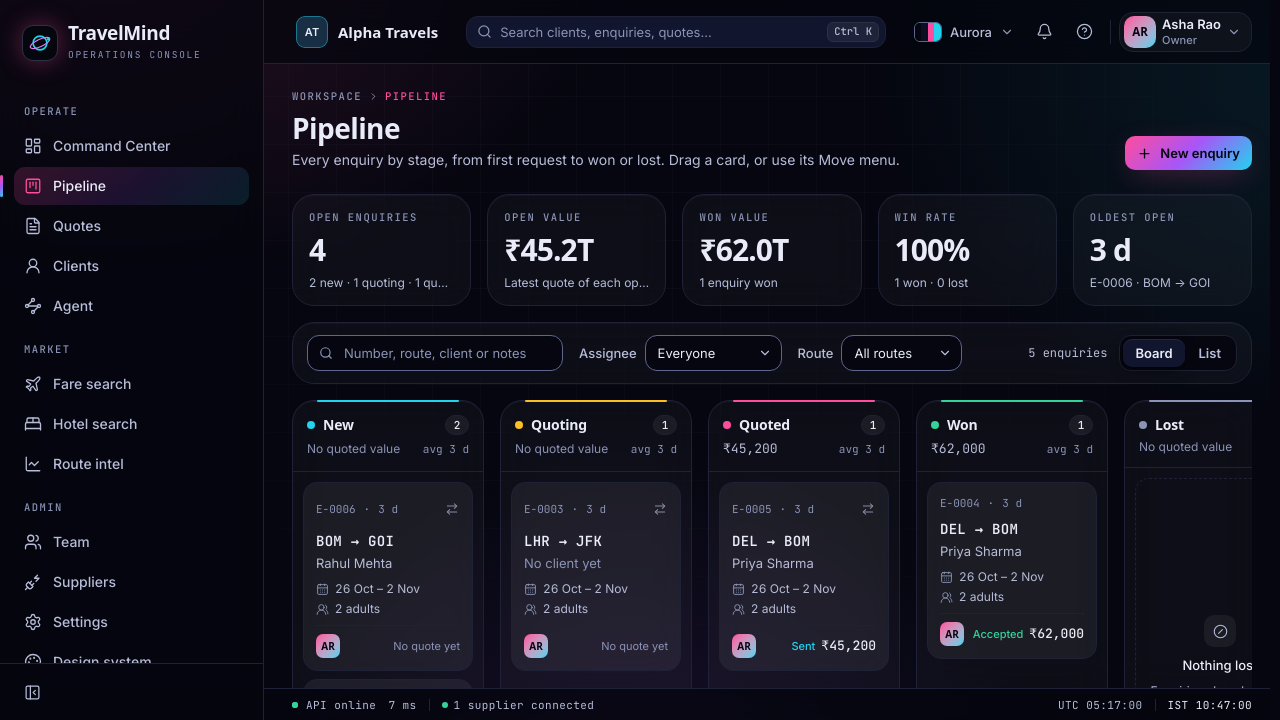
Test: a refused move shows the server's message and puts the card back
The width and height of the screenshot is (1280, 720).
Step 1. Click the button named "Move E-0006" → (452, 509), box x1=438 y1=491 x2=466 y2=527
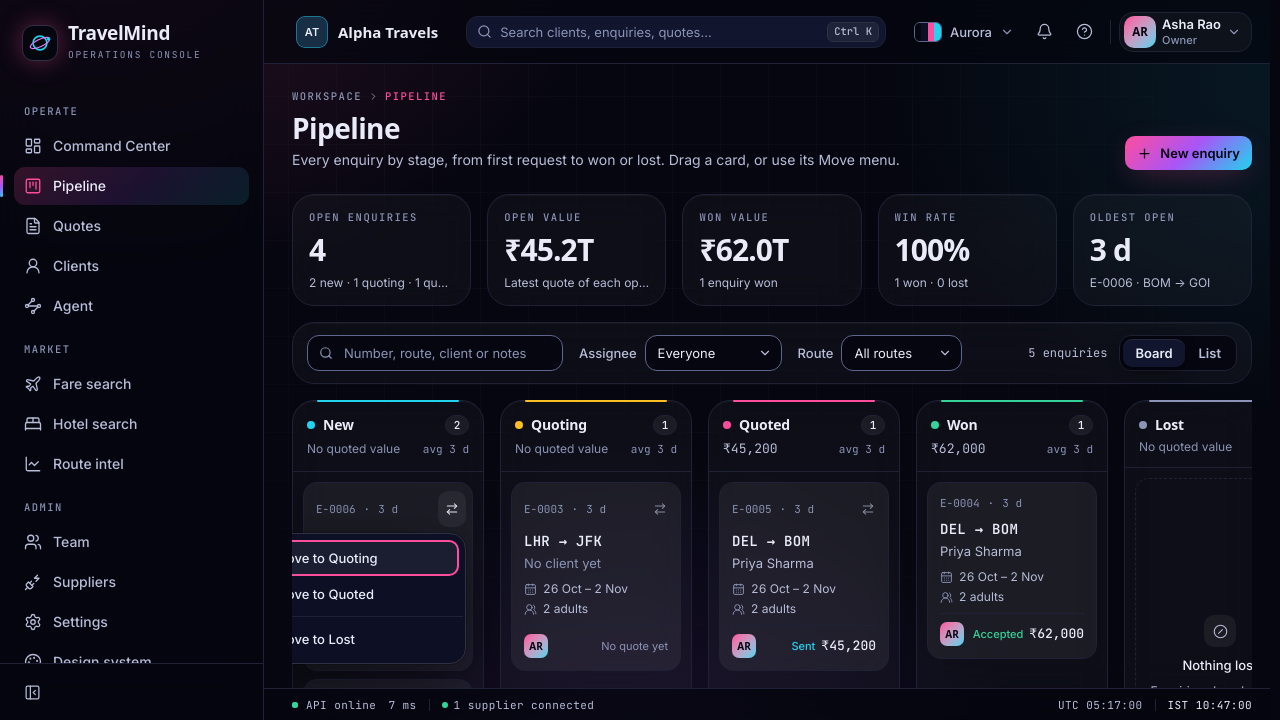
Step 2. Click the menu item "Move to Quoting" → (362, 558), box x1=265 y1=540 x2=459 y2=576
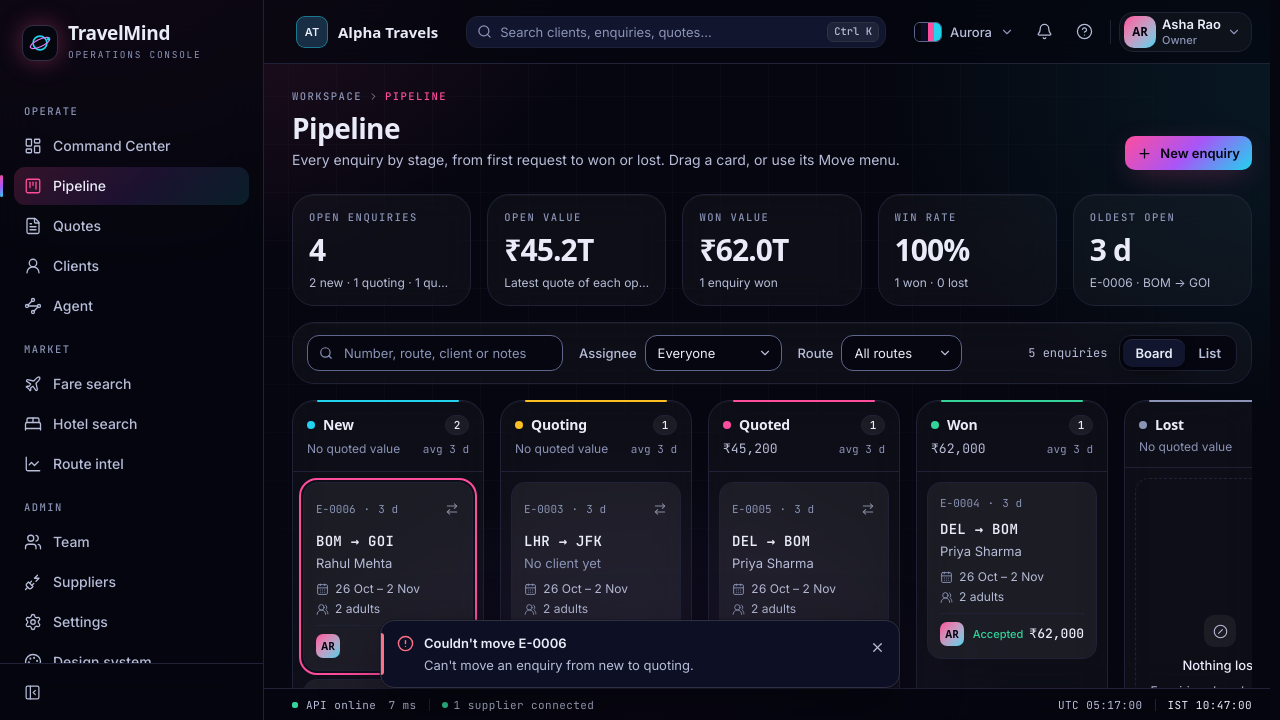
Expected: the element named "E-0006 BOM → GOI" is shown, x1=303 y1=482 x2=473 y2=671
Result: the text "Can't move an enquiry from new to quoting." is shown at x1=424 y1=657 x2=694 y2=673
